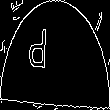P_S: (45, 29, 65, 81)
